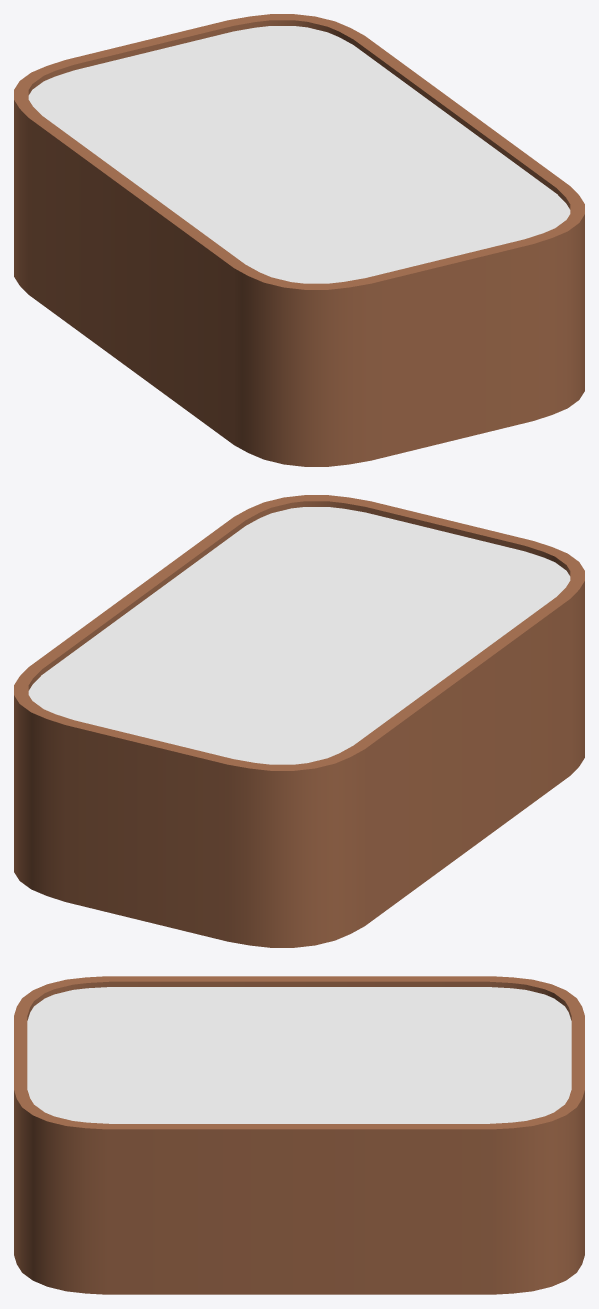
The model's file is Arena.fbx.
3 renders of one model, top to bottom at view 1: azimuth 30°, elevation 25°; view 2: azimuth 150°, elevation 25°; view 3: azimuth 270°, elevation 25°, orthographic. The views are drawn at different scales.
Parts seen in each view (by area): view 1: Cube; view 2: Cube; view 3: Cube.
Part boxes in pixels (x1,y1,x2,y2): Cube: [14, 14, 584, 466]; Cube: [14, 495, 584, 947]; Cube: [14, 976, 584, 1294].
Bounding box in the file's own units: 2173 × 1093 × 3422.
